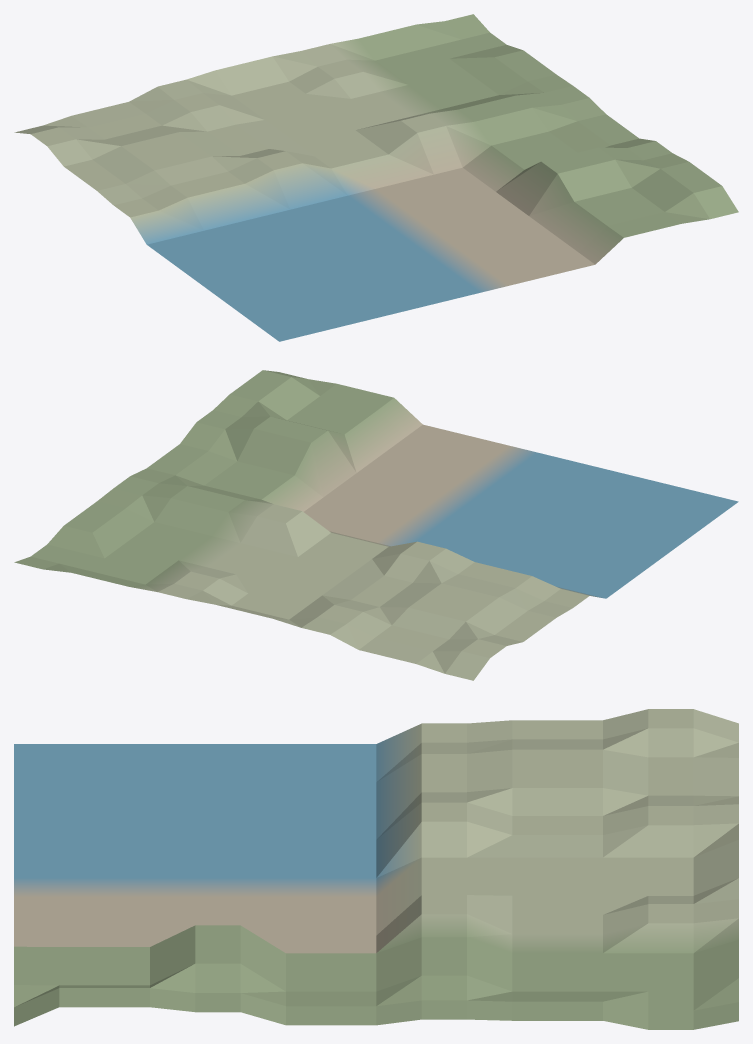
3 renders of one model, top to bottom at view 1: azimuth 30°, elevation 25°; view 2: azimuth 150°, elevation 25°; view 3: azimuth 270°, elevation 25°, orthographic. The views are drawn at different scales.
Bounding box in the file's own units: 32 × 2.36 × 32.
